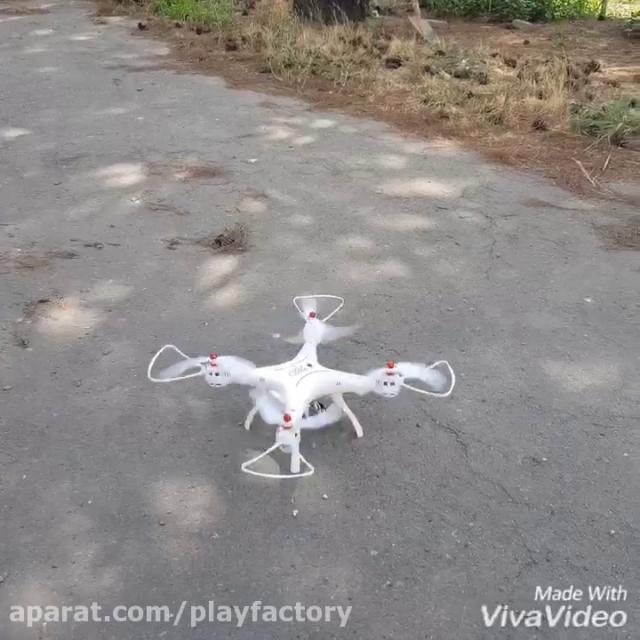drone: (144, 289, 459, 482)
